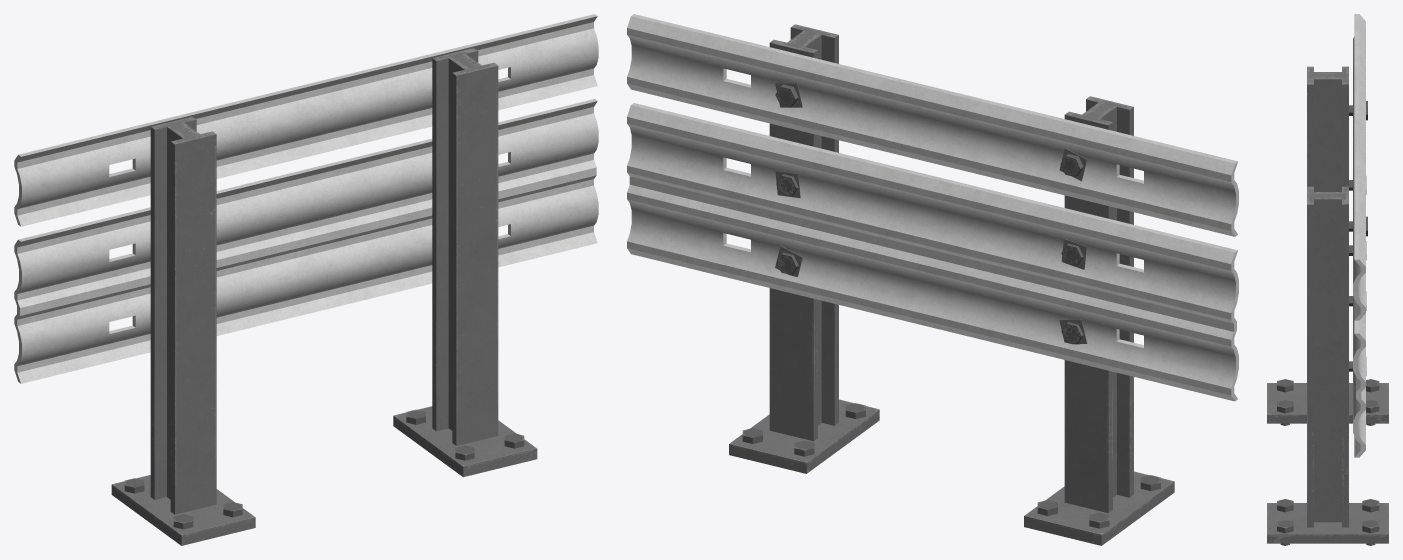
Rendered from road-fence.fbx.
The picture shows the model from 3 angles, left to right: view 1: azimuth 30°, elevation 25°; view 2: azimuth 150°, elevation 25°; view 3: azimuth 270°, elevation 25°; orthographic projection. The views are drawn at different scales.
Parts seen in each view (by area): view 1: road_fence_low; view 2: road_fence_low; view 3: road_fence_low.
Boxes of the visible parts, x1,y1,x2,y2 form: road_fence_low: (14, 14, 598, 545); road_fence_low: (627, 14, 1238, 545); road_fence_low: (1267, 14, 1388, 545).
Bounding box in the file's own units: 326 × 209 × 68.32.
1 material, 1 textured.
